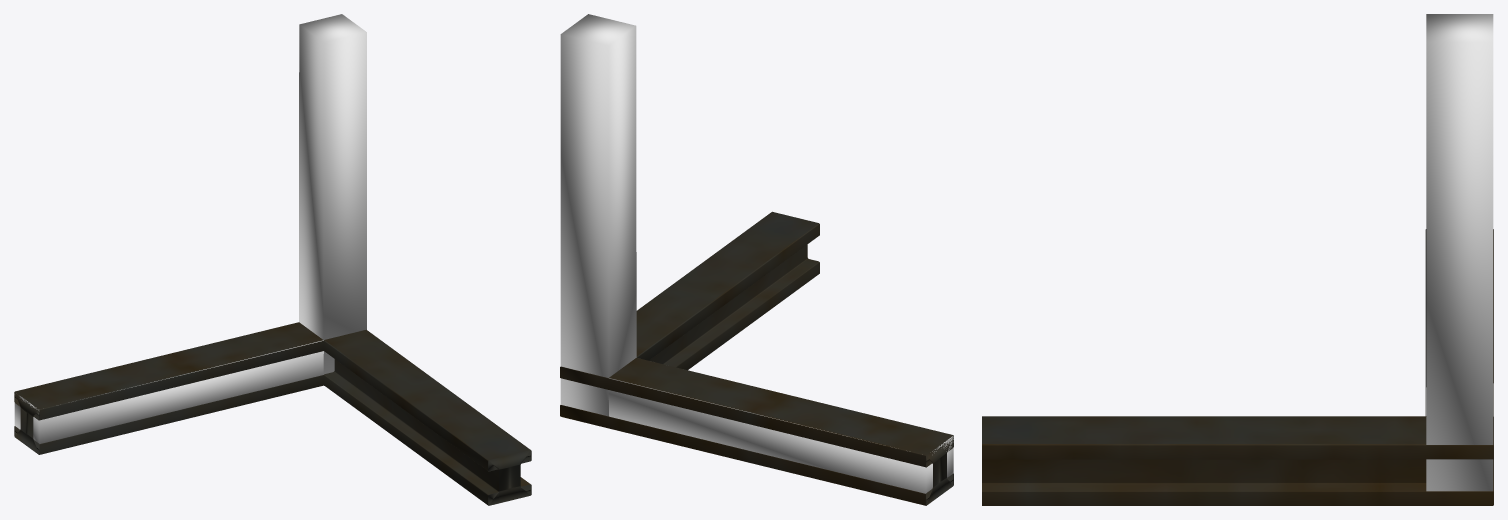
Rendered from SM_Beam_Corner.fbx.
3 views of the same model, side by side, from view 1: azimuth 30°, elevation 25°; view 2: azimuth 150°, elevation 25°; view 3: azimuth 270°, elevation 25° (orthographic). The views are drawn at different scales.
Parts seen in each view (by area): view 1: SM_Beam_Corner, SM_Beam_Corner_ConvexHulls; view 2: SM_Beam_Corner_ConvexHulls, SM_Beam_Corner; view 3: SM_Beam_Corner, SM_Beam_Corner_ConvexHulls.
Boxes of the visible parts, x1,y1,x2,y2 form: SM_Beam_Corner: (14,322,531,505); SM_Beam_Corner_ConvexHulls: (14,14,366,443); SM_Beam_Corner_ConvexHulls: (560,14,953,493); SM_Beam_Corner: (560,211,953,505); SM_Beam_Corner: (982,229,1493,505); SM_Beam_Corner_ConvexHulls: (1426,14,1493,491).
Size of the model in its own units: 1.5 by 1.5 by 1.5.
